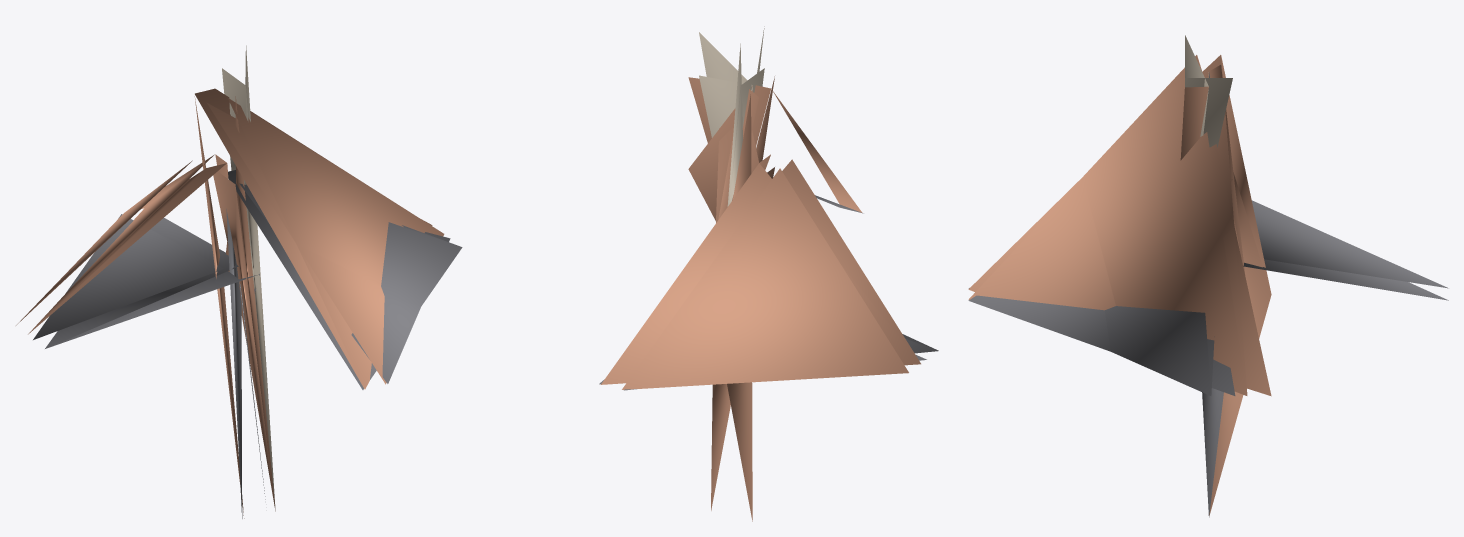
Rendered from npc_instructor_idle.glb.
3 views of the same model, side by side, from view 1: azimuth 30°, elevation 25°; view 2: azimuth 150°, elevation 25°; view 3: azimuth 270°, elevation 25° (orthographic).
Visible parts, largest first — view 1: npc_instructor_idle; view 2: npc_instructor_idle; view 3: npc_instructor_idle.
Part boxes in pixels (box(x1,y1,x2,y2)): npc_instructor_idle: box(16, 45, 462, 518); npc_instructor_idle: box(599, 26, 938, 521); npc_instructor_idle: box(968, 35, 1448, 517).
Size of the model in its own units: 2 by 2.24 by 2.
